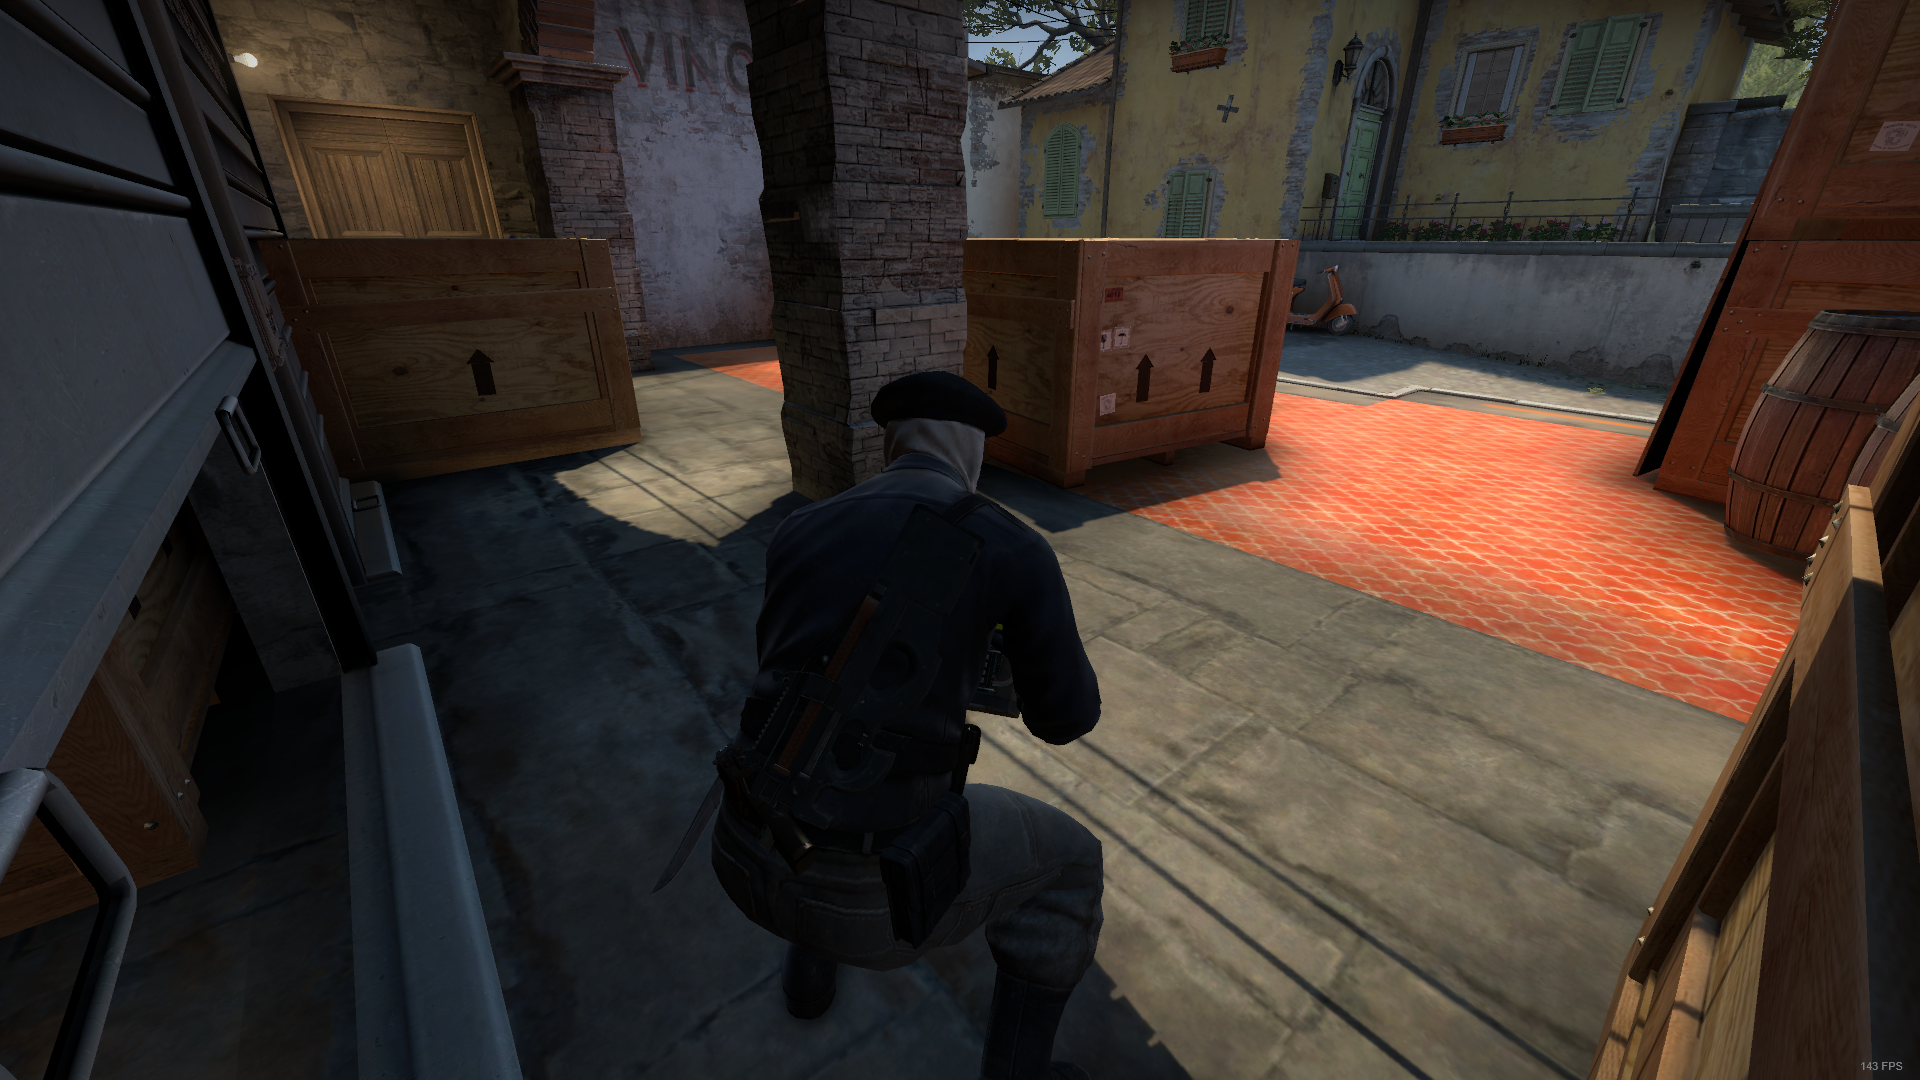t: (688, 360, 1125, 1080)
